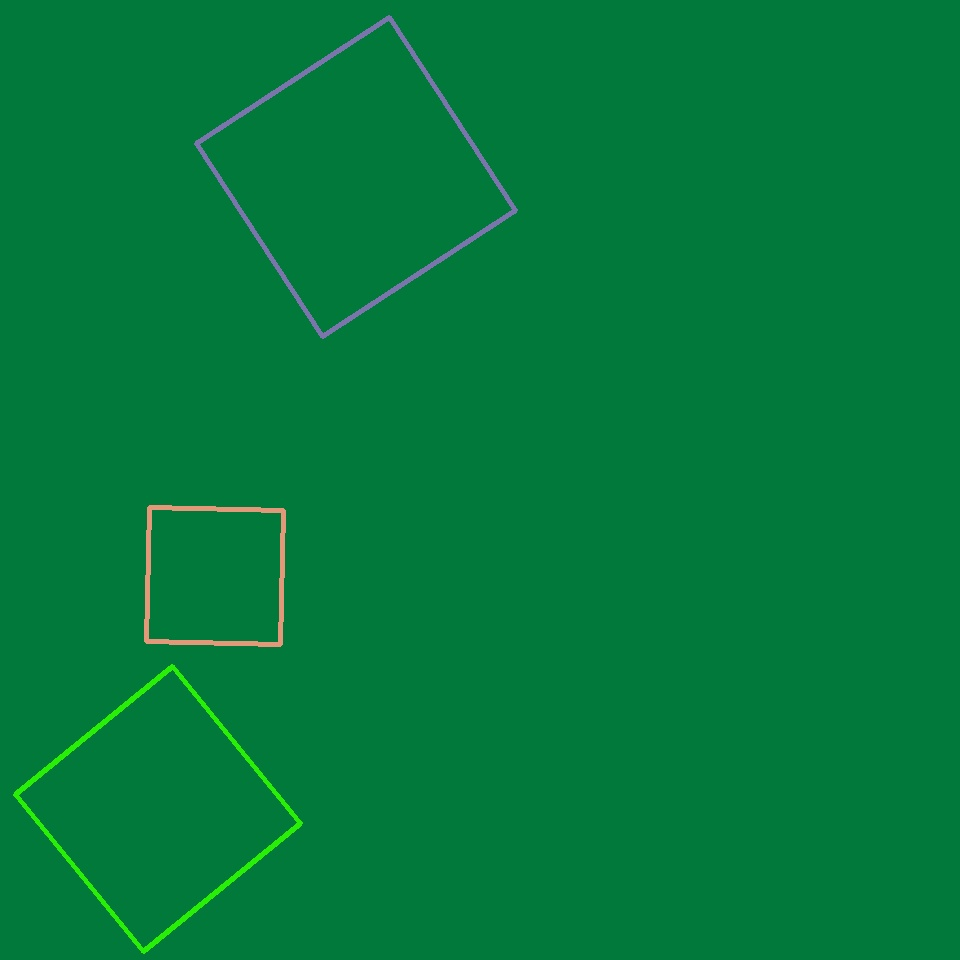square: (197, 18, 516, 336), (15, 666, 300, 952), (146, 507, 284, 644)
